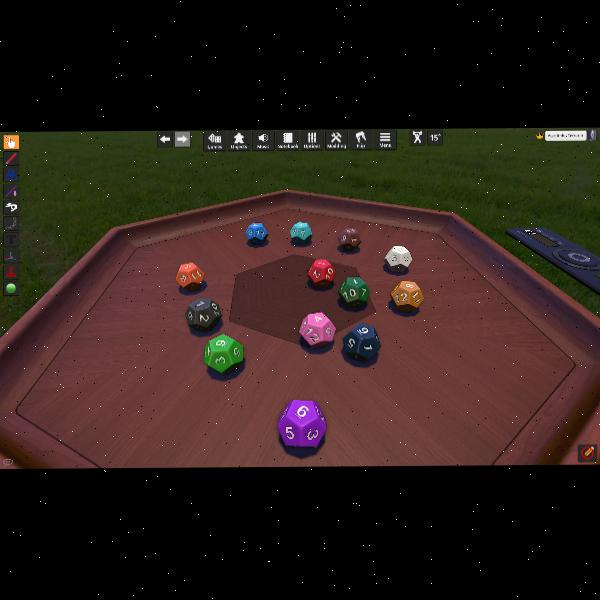d12: (278, 398, 325, 445), (204, 334, 244, 375), (344, 323, 382, 361), (186, 297, 222, 332), (300, 311, 334, 348), (390, 280, 422, 312), (338, 276, 370, 307), (176, 261, 204, 292), (384, 245, 410, 273), (308, 259, 334, 287), (337, 228, 359, 251), (246, 222, 268, 245), (290, 222, 310, 244)
